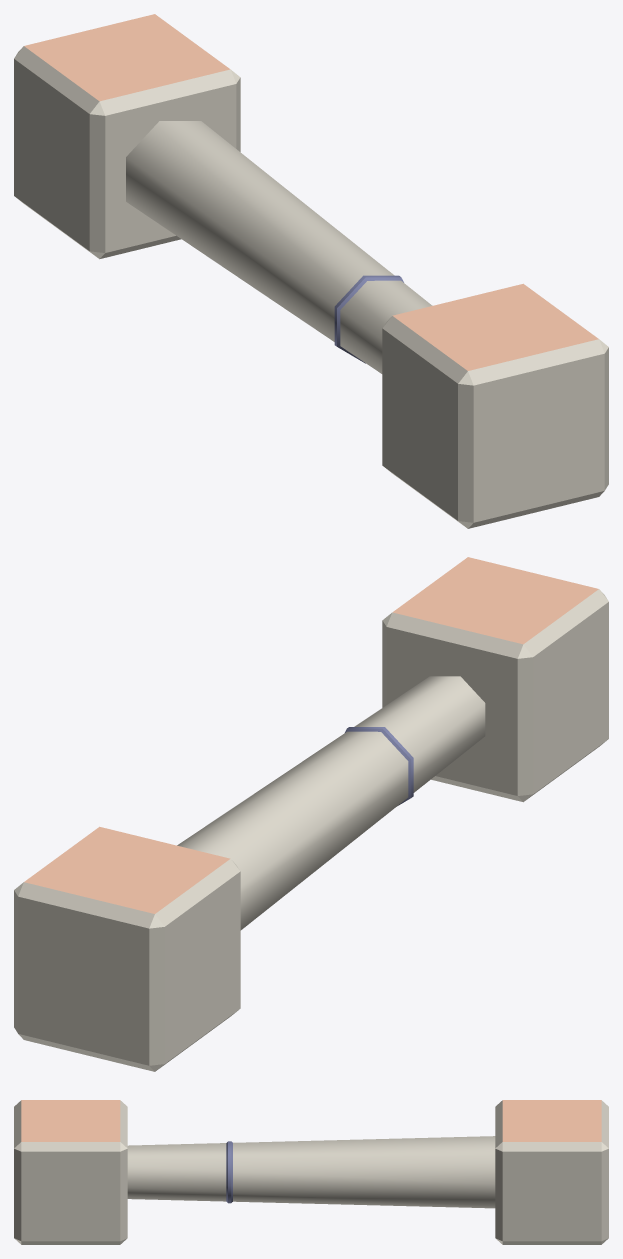
Rendered from R4C_STRUT_LONG_LOD1.fbx.
3 views of the same model, one above another, from view 1: azimuth 30°, elevation 25°; view 2: azimuth 150°, elevation 25°; view 3: azimuth 270°, elevation 25° (orthographic). The views are drawn at different scales.
Parts seen in each view (by area): view 1: R4C_STRUT_LONG_LOD1; view 2: R4C_STRUT_LONG_LOD1; view 3: R4C_STRUT_LONG_LOD1.
Part boxes in pixels (x1=…): R4C_STRUT_LONG_LOD1: x1=14, y1=14, x2=608, y2=528; R4C_STRUT_LONG_LOD1: x1=14, y1=557, x2=608, y2=1071; R4C_STRUT_LONG_LOD1: x1=14, y1=1100, x2=608, y2=1244.
Size of the model in its own units: 0.52 by 0.52 by 2.72.
